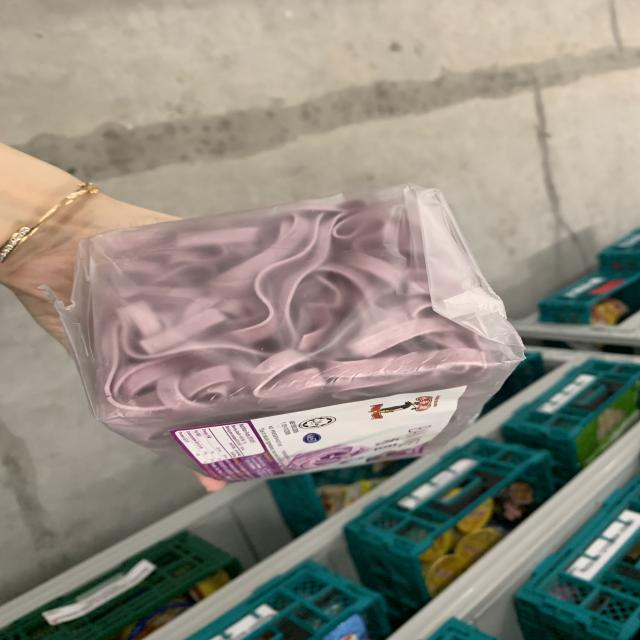object_name: (89, 224, 504, 438)
